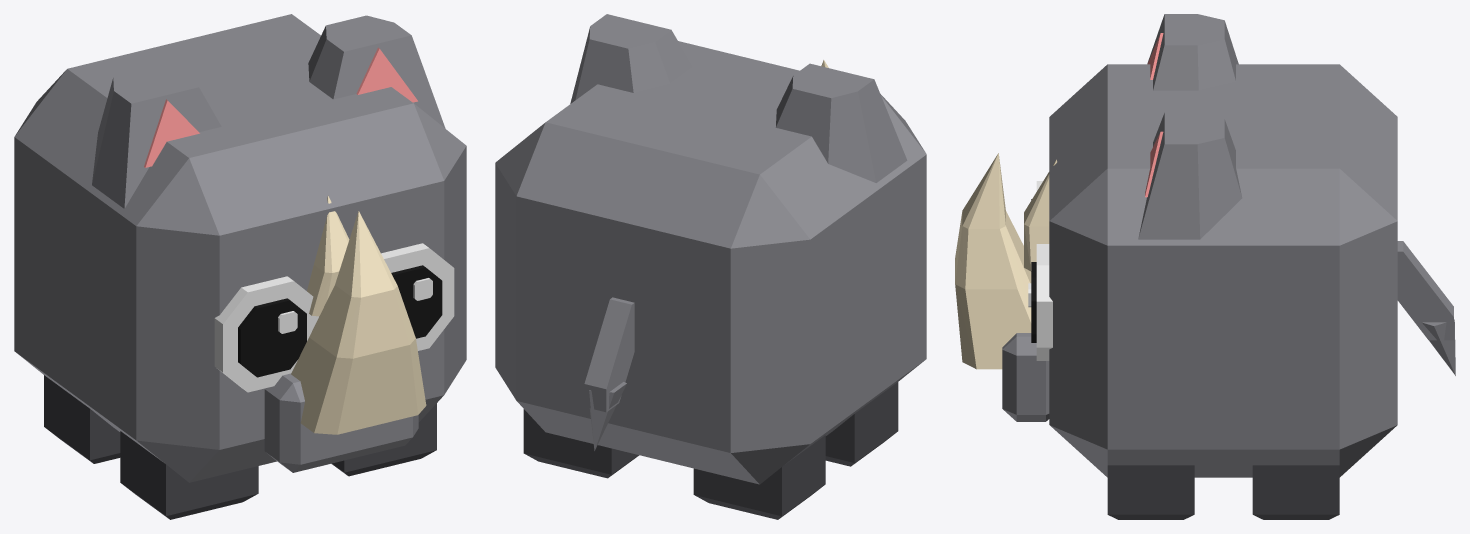
The model's file is Rhino.fbx.
The picture shows the model from 3 angles, left to right: view 1: azimuth 30°, elevation 25°; view 2: azimuth 150°, elevation 25°; view 3: azimuth 270°, elevation 25°; orthographic projection. The views are drawn at different scales.
Visible parts, largest first — view 1: Rhino, Rhino_Horn, Rhino_Ears, Rhino_Feet, Rhino_Eyes, Rhino_Snout, Rhino_Pupils, Rhino_EarInner; view 2: Rhino, Rhino_Ears, Rhino_Feet, Rhino_Tail; view 3: Rhino, Rhino_Ears, Rhino_Horn, Rhino_Feet, Rhino_Tail, Rhino_Snout, Rhino_Eyes, Rhino_EarInner.
Boxes of the visible parts, x1,y1,x2,y2 form: Rhino: (14, 14, 466, 482); Rhino_Horn: (291, 195, 426, 434); Rhino_Ears: (92, 15, 445, 208); Rhino_Feet: (44, 375, 436, 519); Rhino_Eyes: (214, 243, 454, 392); Rhino_Snout: (264, 373, 418, 472); Rhino_Pupils: (238, 265, 442, 377); Rhino_EarInner: (144, 47, 417, 167); Rhino: (495, 41, 926, 484); Rhino_Ears: (570, 14, 907, 182); Rhino_Feet: (523, 382, 898, 519); Rhino_Tail: (584, 297, 634, 450); Rhino: (1049, 64, 1397, 477); Rhino_Ears: (1138, 14, 1242, 239); Rhino_Horn: (955, 153, 1057, 369); Rhino_Feet: (1107, 465, 1339, 519); Rhino_Tail: (1397, 241, 1455, 375); Rhino_Snout: (1002, 333, 1049, 421); Rhino_Eyes: (1028, 181, 1052, 360); Rhino_EarInner: (1145, 33, 1163, 197).
Bounding box in the file's own units: 2 × 2.33 × 2.76.
